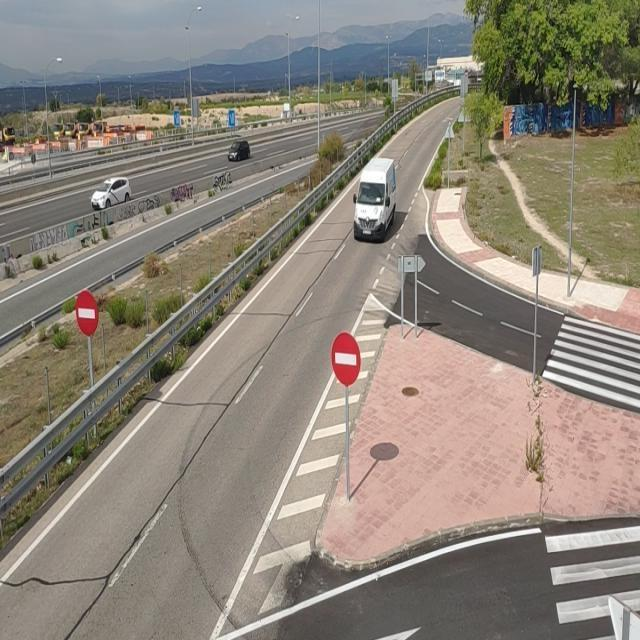Car: (92, 175, 131, 212), (228, 141, 251, 162)
Van: (353, 156, 397, 243)
